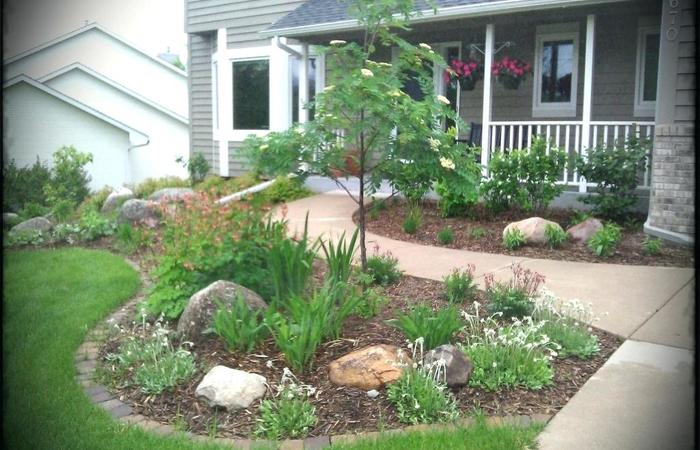tree: (283, 10, 462, 277)
